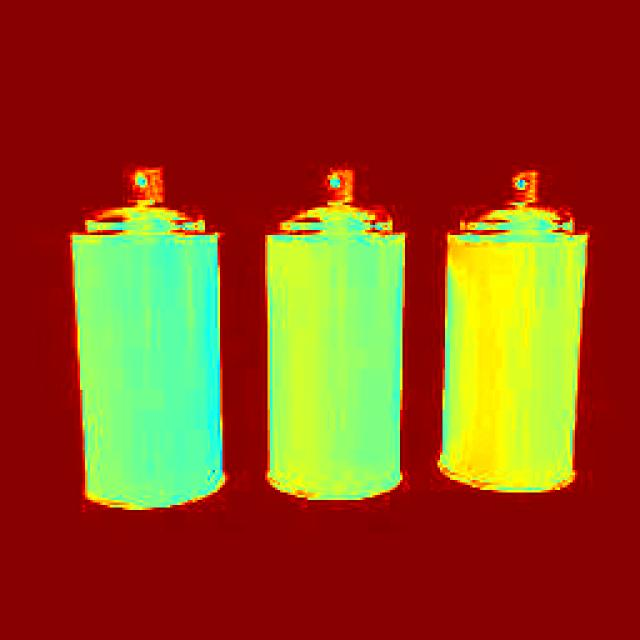Aerosol Cans: (438, 143, 589, 511), (69, 157, 220, 516), (262, 147, 406, 515)
